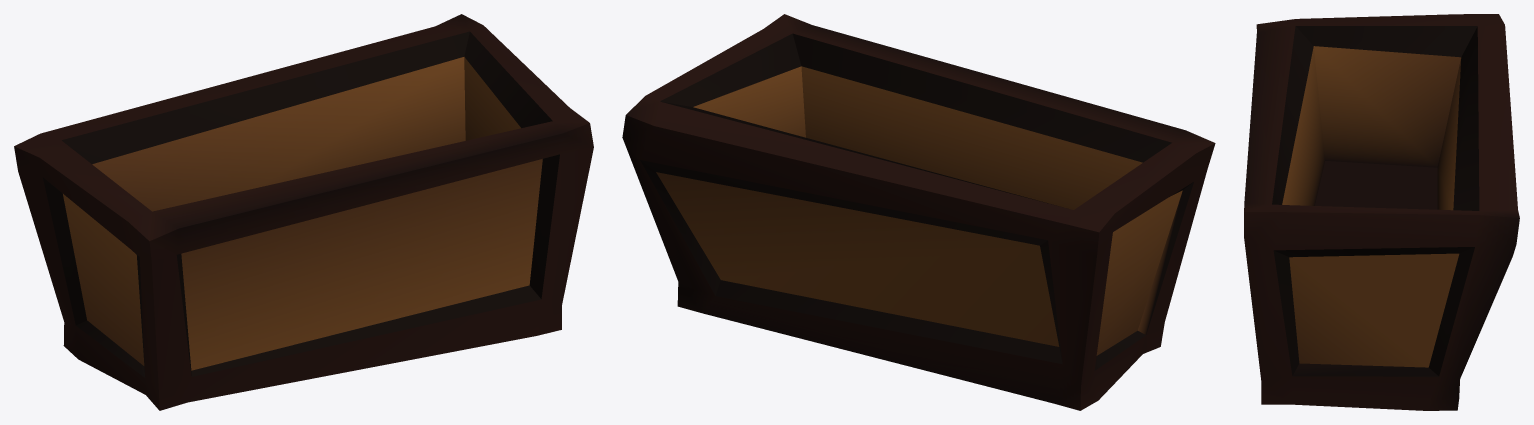
Rendered from c_box_rectangle_hollow_aa.fbx.
3 views of the same model, side by side, from view 1: azimuth 30°, elevation 25°; view 2: azimuth 150°, elevation 25°; view 3: azimuth 270°, elevation 25° (orthographic). The views are drawn at different scales.
Parts seen in each view (by area): view 1: c_box_rectangle_hollow_aa; view 2: c_box_rectangle_hollow_aa; view 3: c_box_rectangle_hollow_aa.
Part boxes in pixels (left/top/right/bottom): c_box_rectangle_hollow_aa: left=14, top=14, right=593, bottom=410; c_box_rectangle_hollow_aa: left=622, top=14, right=1215, bottom=410; c_box_rectangle_hollow_aa: left=1244, top=14, right=1519, bottom=410.
Bounding box in the file's own units: 2.41 × 1.06 × 1.28.
